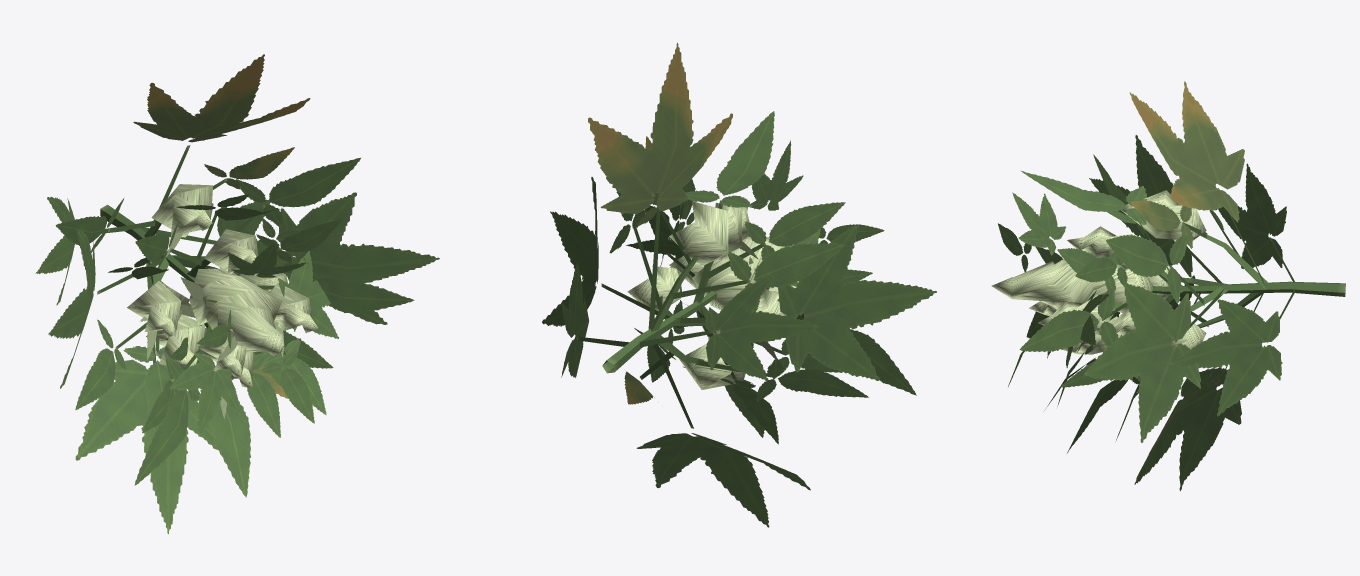
Rendered from p_frosty_auto_ripe_c0_cards.obj.
3 renders of one model, left to right at view 1: azimuth 30°, elevation 25°; view 2: azimuth 150°, elevation 25°; view 3: azimuth 270°, elevation 25°, orthographic. The views are drawn at different scales.
Bounding box in the file's own units: 1.34 × 1.56 × 0.947.
Materials: 1 (1 with a texture image).
